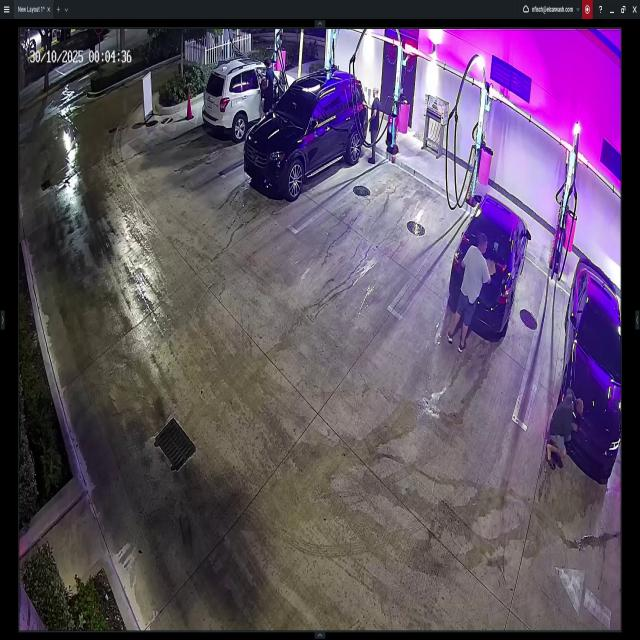Car: (243, 68, 367, 197), (556, 257, 620, 471), (452, 194, 529, 336), (204, 56, 296, 134)
